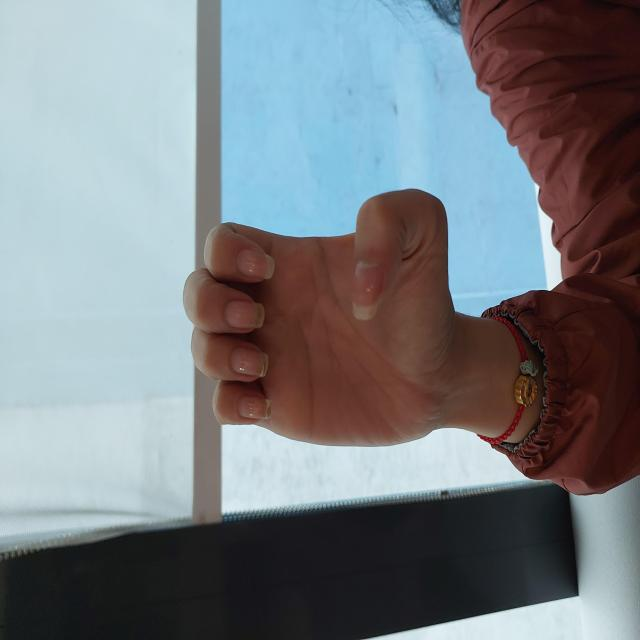E: (192, 179, 456, 453)
